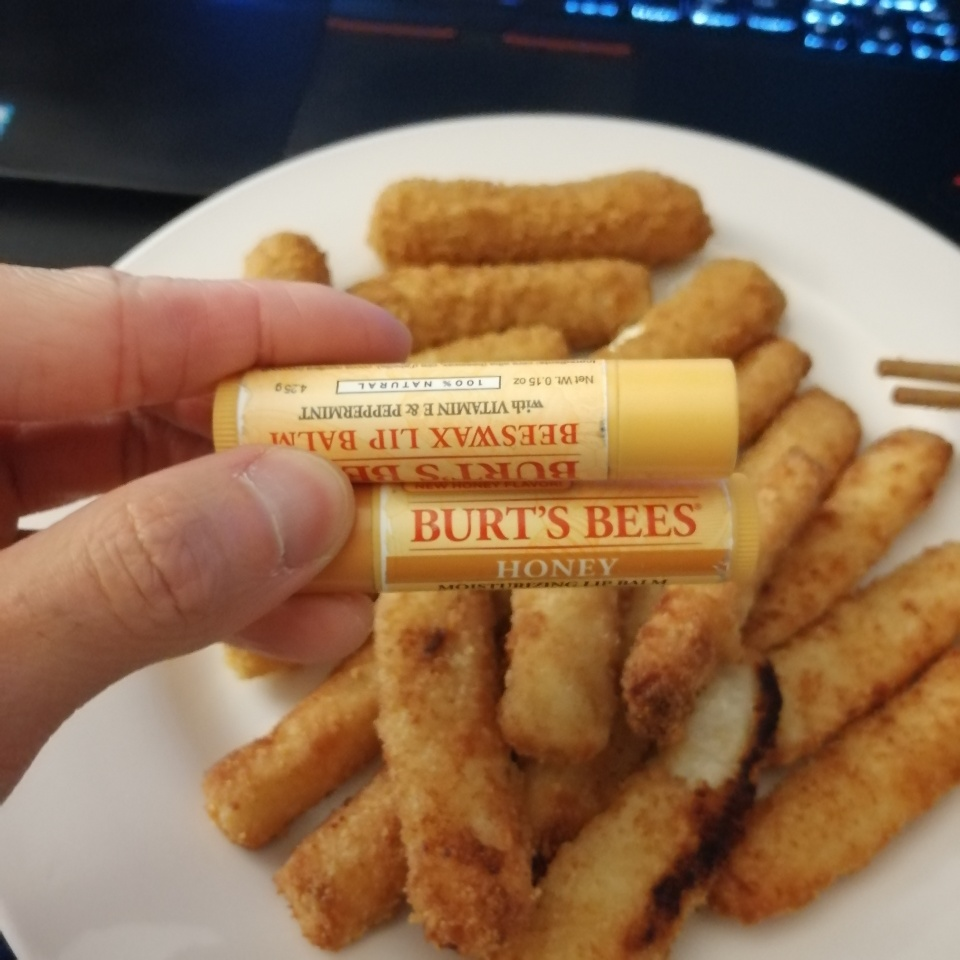chapstick: (215, 355, 741, 486), (295, 473, 763, 597)
